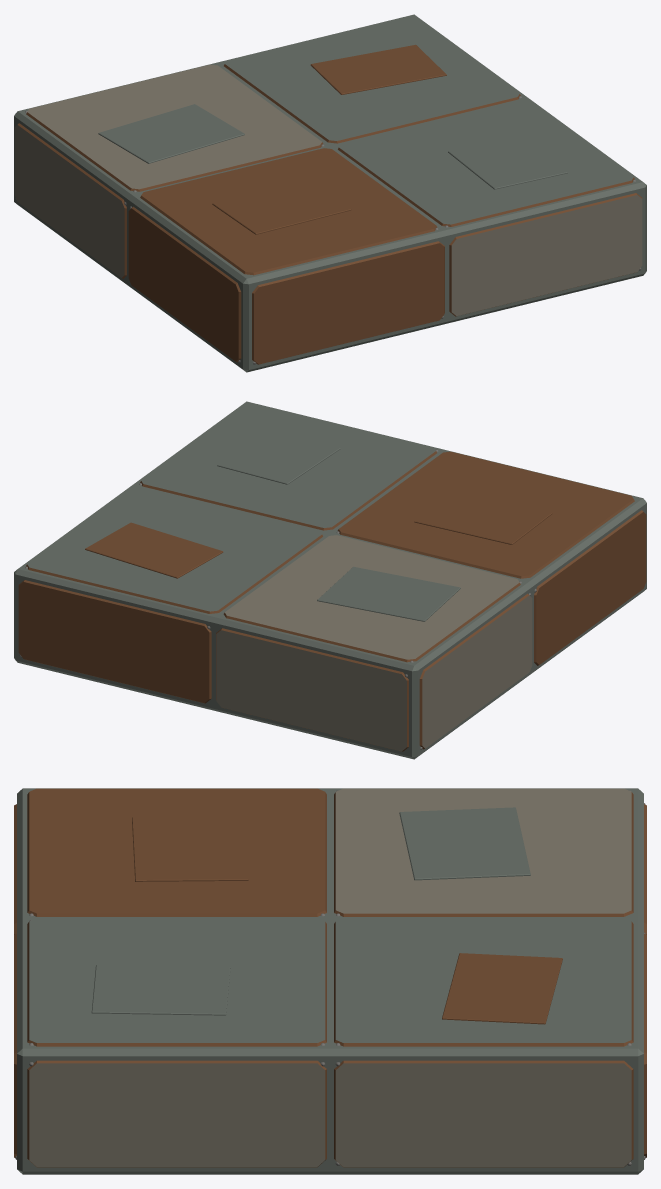
File: R4B_Plate2x2.fbx
3 renders of one model, top to bottom at view 1: azimuth 30°, elevation 25°; view 2: azimuth 150°, elevation 25°; view 3: azimuth 270°, elevation 25°, orthographic. The views are drawn at different scales.
Visible parts, largest first — view 1: R4B_Plate2x2; view 2: R4B_Plate2x2; view 3: R4B_Plate2x2.
Boxes of the visible parts, x1=… form: R4B_Plate2x2: x1=14, y1=14, x2=646, y2=372; R4B_Plate2x2: x1=14, y1=401, x2=646, y2=759; R4B_Plate2x2: x1=14, y1=788, x2=646, y2=1174.
Bounding box in the file's own units: 1.07 × 0.248 × 1.07.
